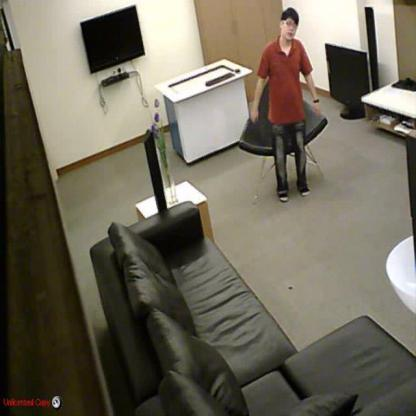Person: (250, 7, 321, 202)
